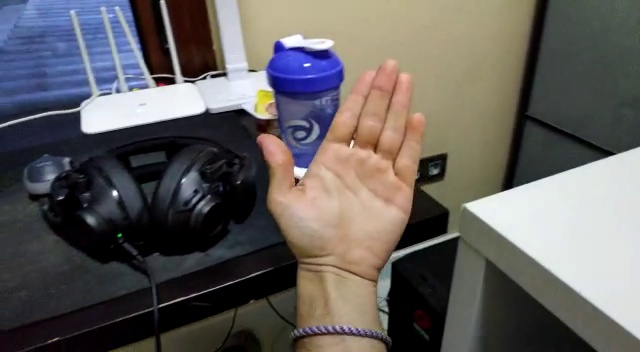Palm: (257, 58, 426, 280)
